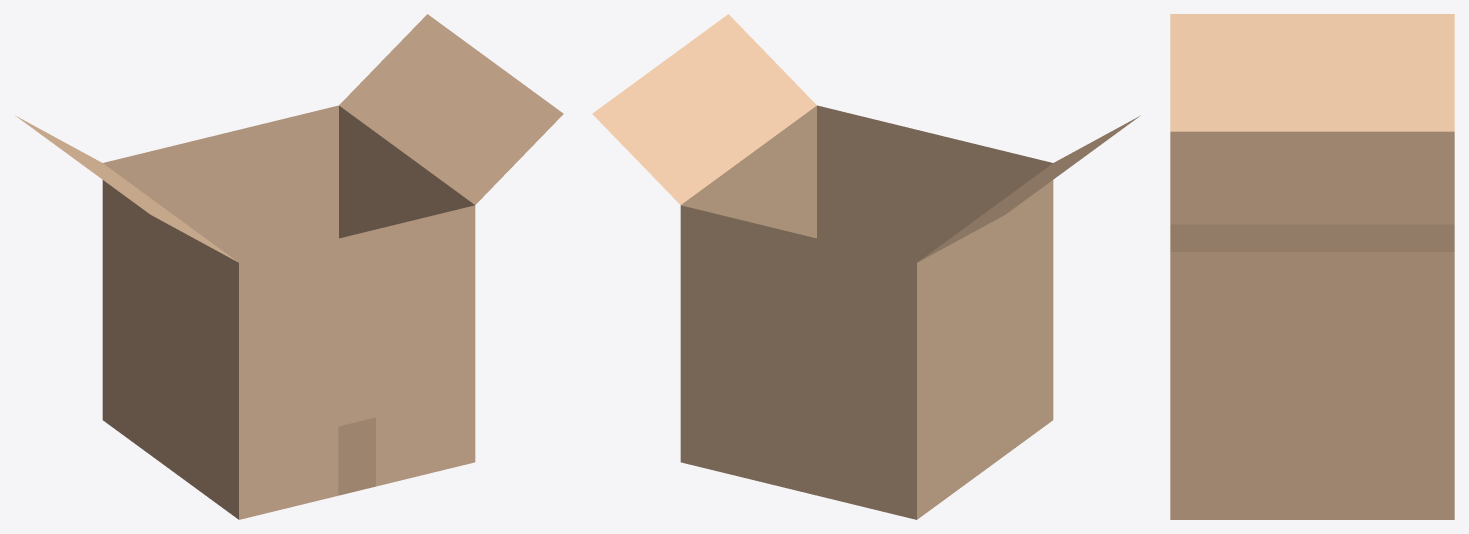
File: cardboardBoxOpen.glb
The picture shows the model from 3 angles, left to right: view 1: azimuth 30°, elevation 25°; view 2: azimuth 150°, elevation 25°; view 3: azimuth 270°, elevation 25°; orthographic projection. The views are drawn at different scales.
Visible parts, largest first — view 1: cardboardBoxOpen(Clone); view 2: cardboardBoxOpen(Clone); view 3: cardboardBoxOpen(Clone).
Boxes of the visible parts, bbox=[...] form: cardboardBoxOpen(Clone): bbox=[15, 14, 563, 519]; cardboardBoxOpen(Clone): bbox=[592, 14, 1140, 519]; cardboardBoxOpen(Clone): bbox=[1170, 14, 1454, 519].
Size of the model in its own units: 0.3719 by 0.281 by 0.2125.
